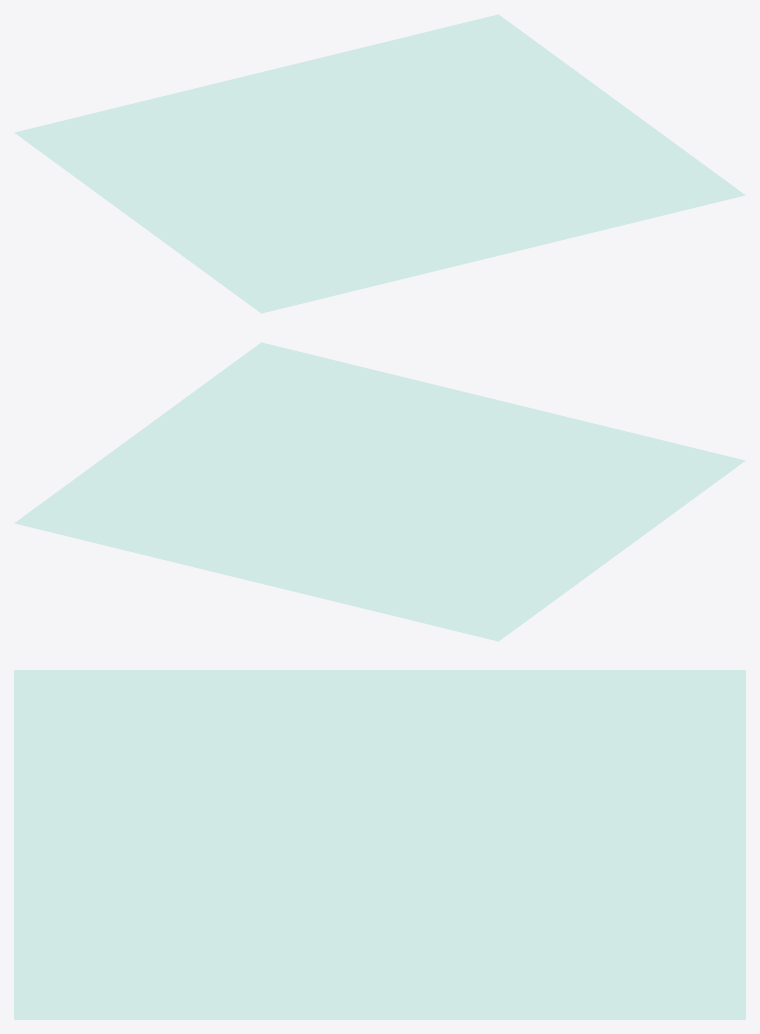
File: Water.glb
3 views of the same model, one above another, from view 1: azimuth 30°, elevation 25°; view 2: azimuth 150°, elevation 25°; view 3: azimuth 270°, elevation 25° (orthographic). The views are drawn at different scales.
Visible parts, largest first — view 1: Water; view 2: Water; view 3: Water.
Part boxes in pixels (box(x1,y1,x2,y2)): Water: box(15, 14, 744, 313); Water: box(15, 342, 744, 641); Water: box(14, 670, 745, 1019).
Size of the model in its own units: 30.75 by 0 by 27.18.
